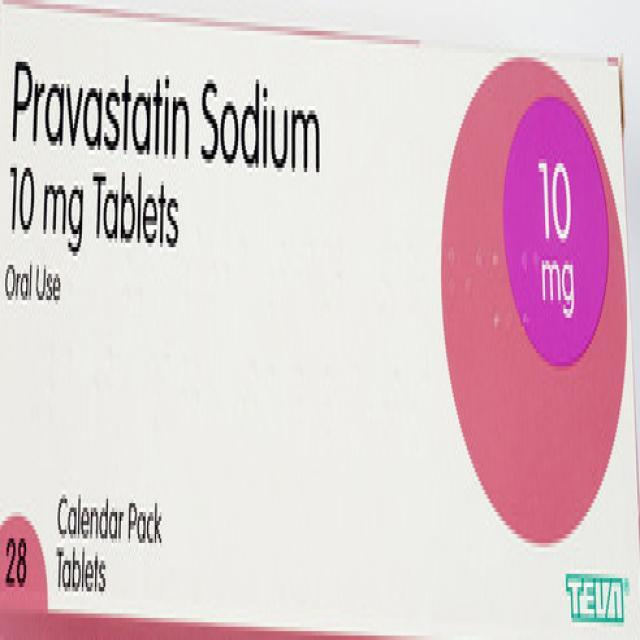drug-name: (8, 59, 325, 176)
